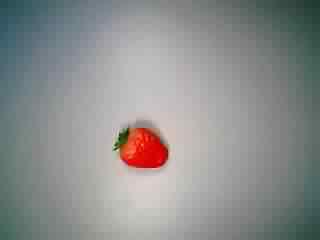strawberry: (106, 113, 174, 177)
